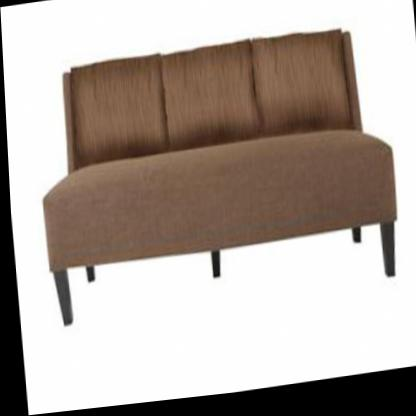Sofa: (30, 27, 398, 329)
